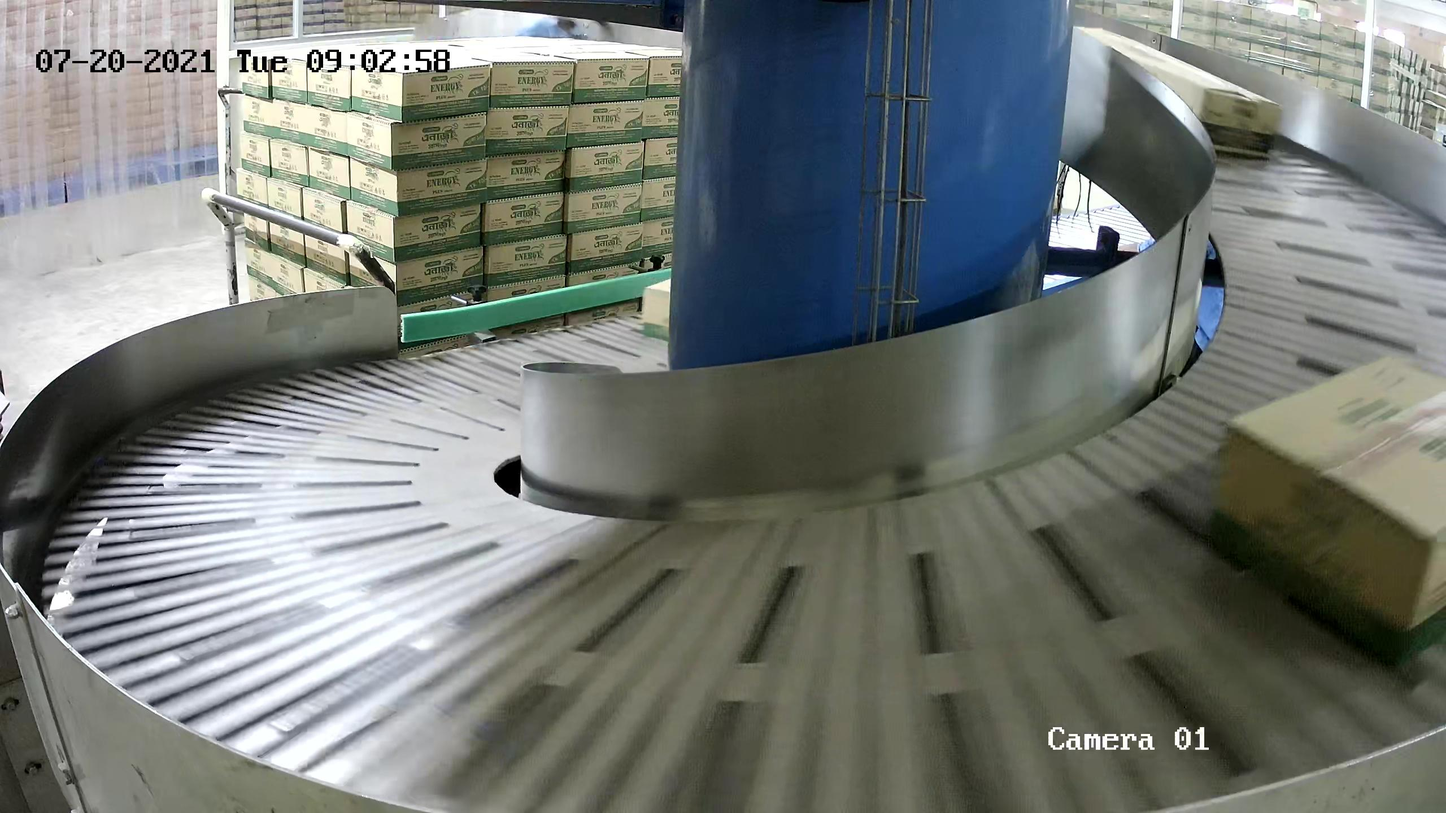Box: (1205, 353, 1446, 673), (1068, 24, 1283, 158), (641, 278, 671, 343)
